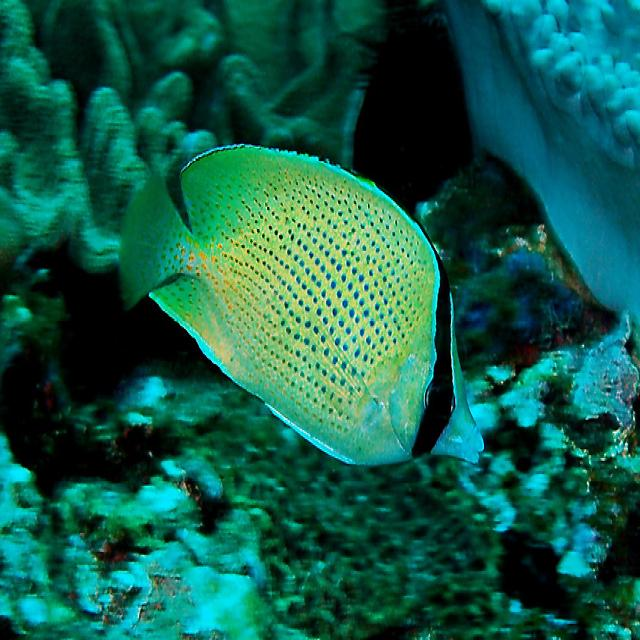ButterflyFish: (119, 141, 485, 470)
